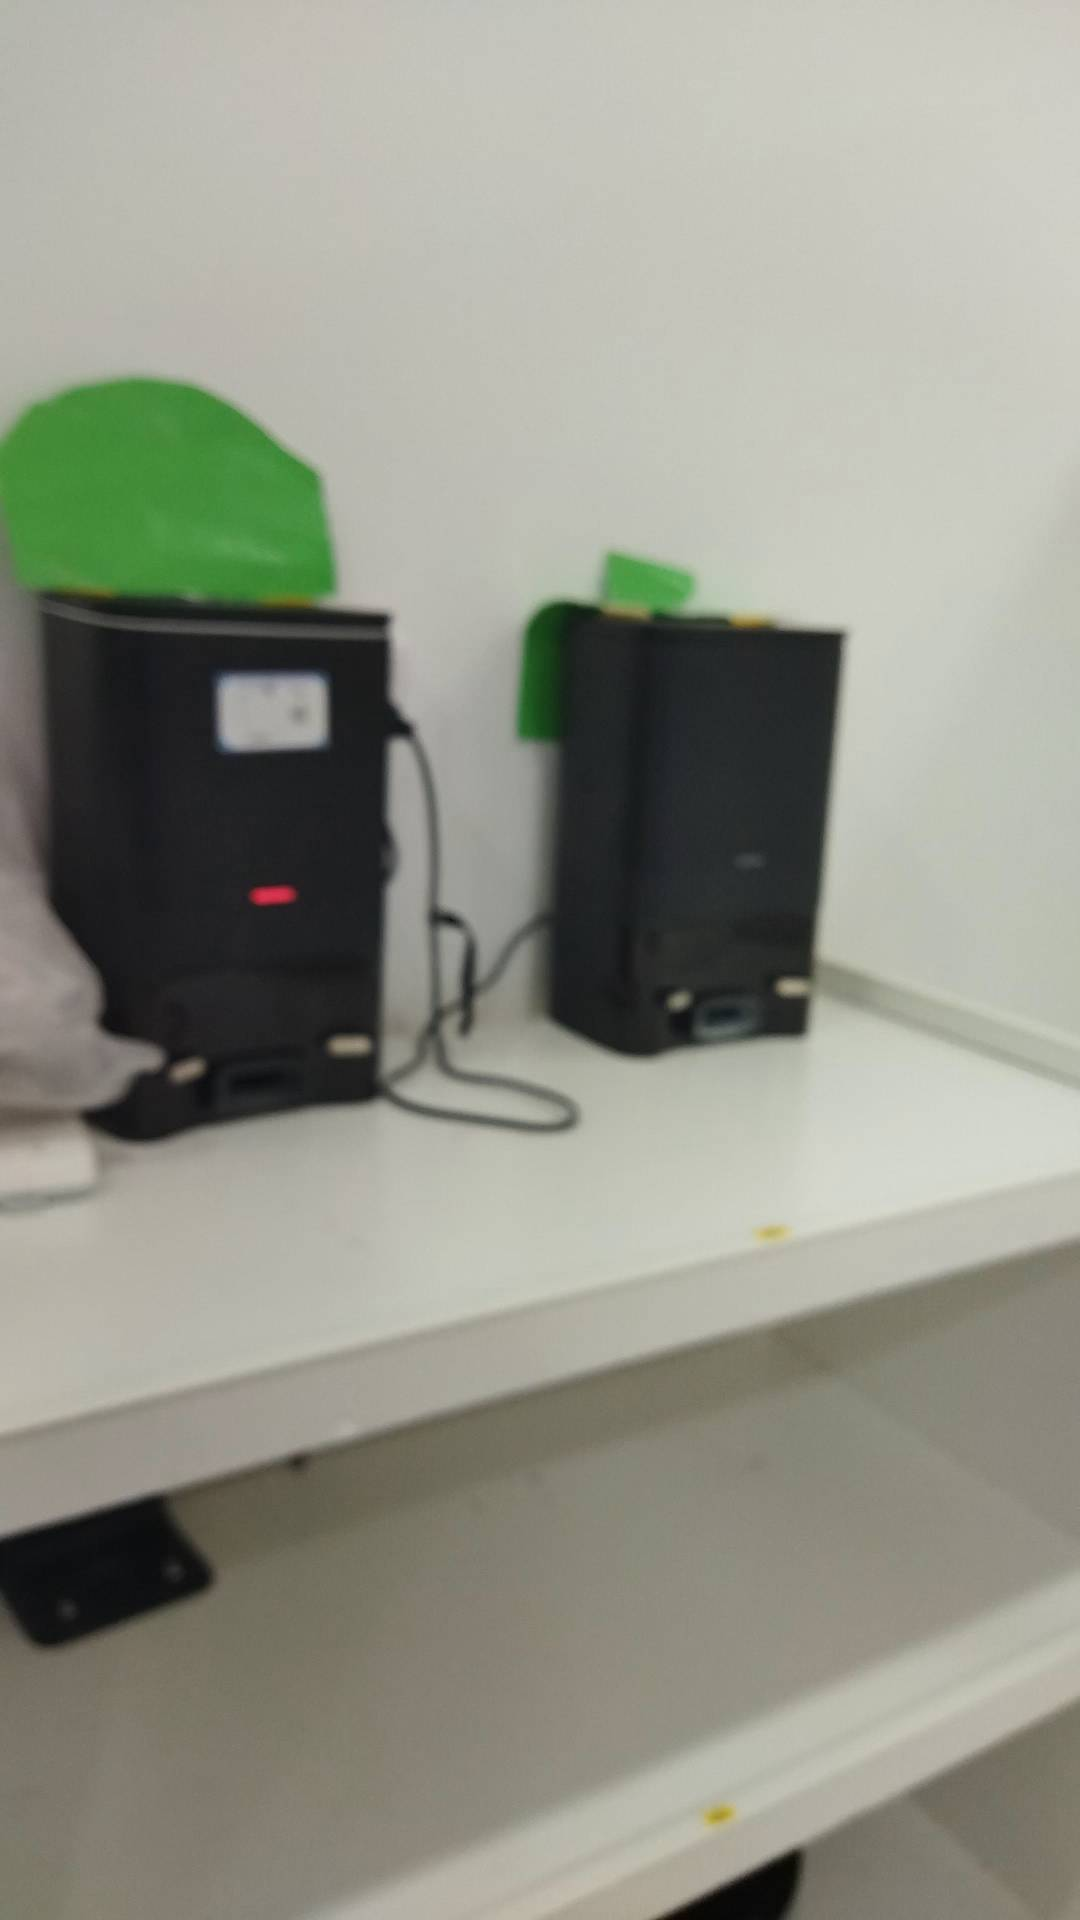dust collecting barrel: (36, 582, 393, 1143), (541, 611, 847, 1062)
recharge seat: (1, 1491, 215, 1656)
